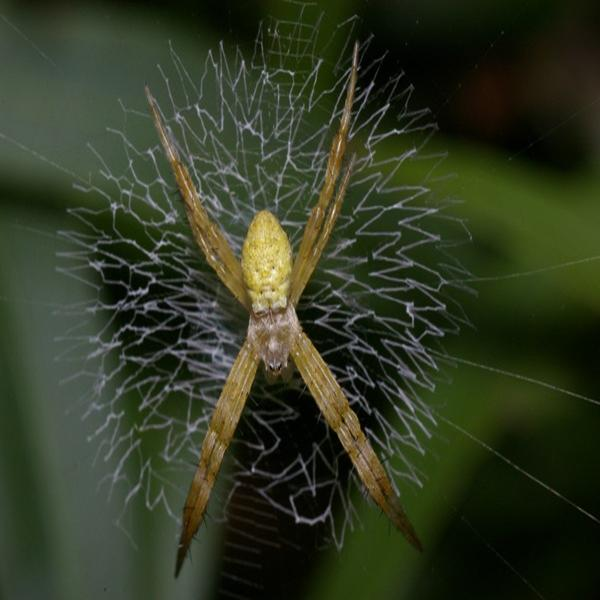St Andrew's Cross Spider: (151, 64, 424, 562)
